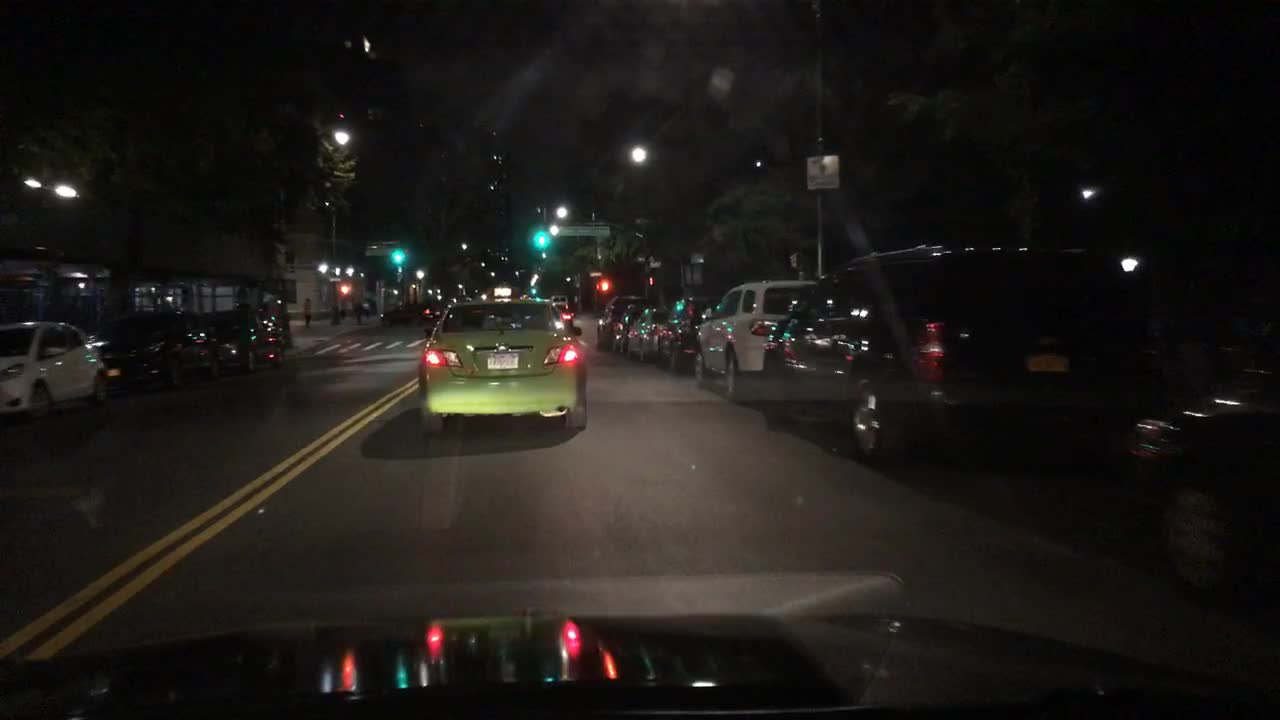car: (759, 235, 1151, 467), (1111, 330, 1278, 610), (418, 294, 586, 430), (690, 278, 815, 397), (0, 318, 108, 424), (95, 304, 210, 396), (199, 309, 288, 376), (645, 293, 721, 371), (594, 293, 648, 352), (618, 302, 670, 363), (608, 302, 648, 356), (377, 302, 423, 327), (420, 304, 443, 321), (550, 294, 569, 311)
person: (300, 297, 314, 329), (351, 297, 364, 326), (338, 305, 346, 321)
traffic light: (534, 229, 550, 250), (390, 246, 405, 264), (596, 279, 611, 292), (338, 284, 351, 296)
traffic sign: (807, 153, 840, 189), (551, 223, 610, 237), (362, 242, 399, 256), (680, 264, 703, 286), (688, 253, 703, 263), (327, 275, 342, 281), (587, 270, 601, 276)
